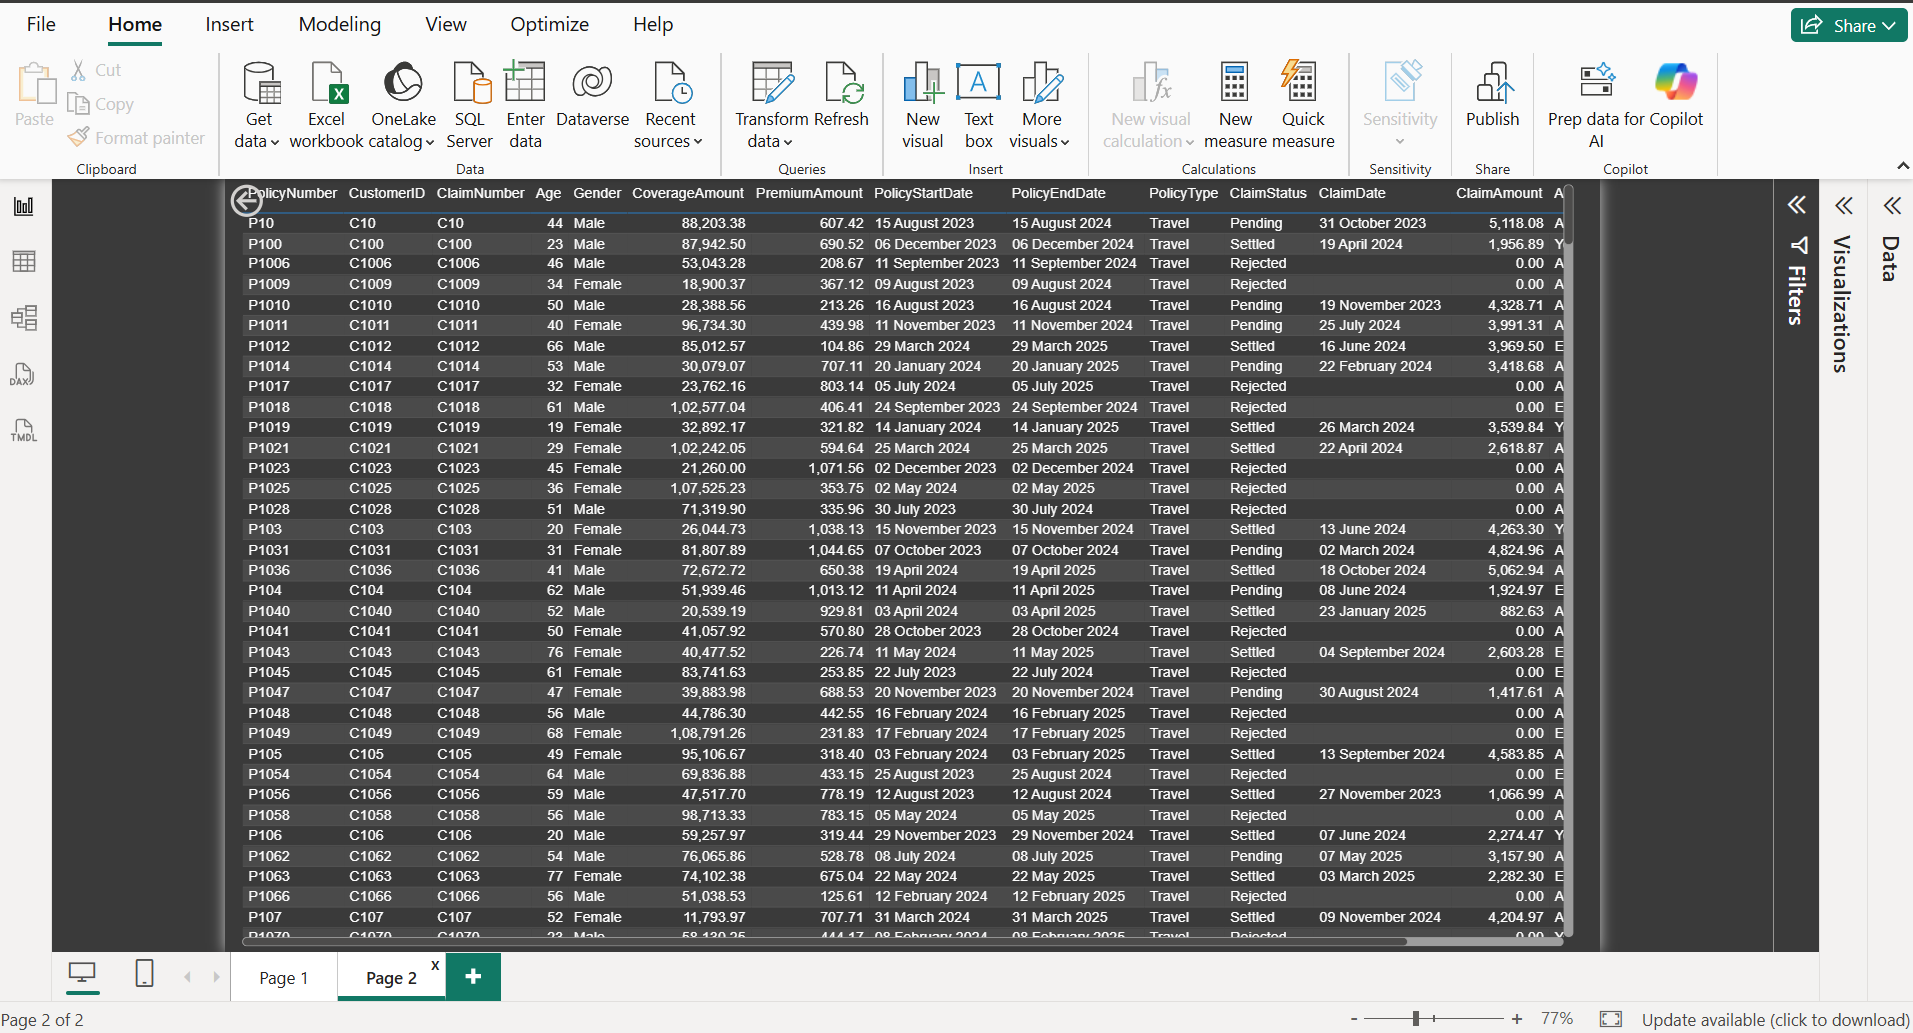

What the dashboard file says about the page in this screenshot:
{"tool":"powerbi","page":{"name":"Page 2","canvas":[1280,720],"ordinal":1},"visuals":[{"type":"tableEx","fields":{"Values":["InsuranceData.PolicyNumber","InsuranceData.CustomerID","InsuranceData.ClaimNumber","InsuranceData.Age","InsuranceData.Gender","InsuranceData.CoverageAmount","InsuranceData.PremiumAmount","InsuranceData.PolicyStartDate","InsuranceData.PolicyEndDate","InsuranceData.PolicyType","InsuranceData.ClaimStatus","InsuranceData.ClaimDate"]},"box":[10.4,0,1249.8,719.4],"z":0},{"type":"actionButton","box":[0,0,100,40],"z":1000}]}

Visuals, with their boxes in screenshot pixels (x1, y1, x2, y2):
tableEx - InsuranceData.PolicyNumber x InsuranceData.CustomerID: box(50, 0, 1815, 946)
